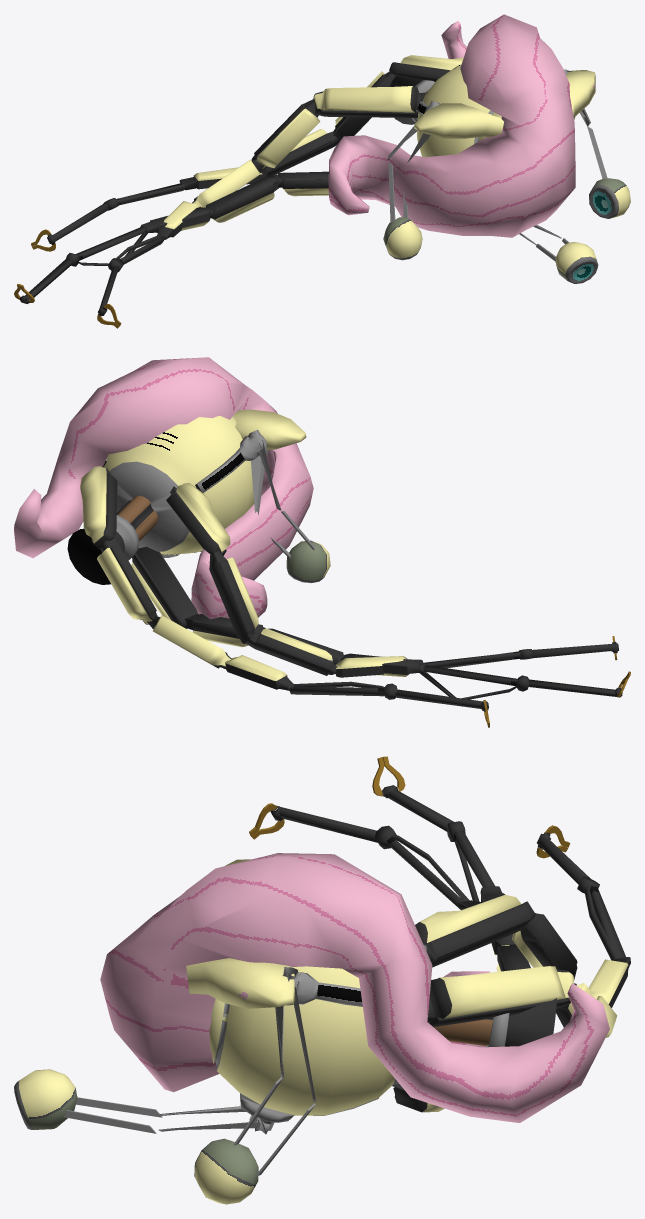
Rendered from mrHandy-fluttershy-dead.glb.
3 views of the same model, one above another, from view 1: azimuth 30°, elevation 25°; view 2: azimuth 150°, elevation 25°; view 3: azimuth 270°, elevation 25° (orthographic). The views are drawn at different scales.
Parts seen in each view (by area): view 1: maHandy; view 2: maHandy; view 3: maHandy.
Part boxes in pixels (<box>): maHandy: <box>14,14,630,328</box>; maHandy: <box>14,357,630,727</box>; maHandy: <box>14,756,630,1204</box>.
Size of the model in its own units: 7.4 by 2.45 by 4.6.
Materials: 3 (3 with a texture image).
